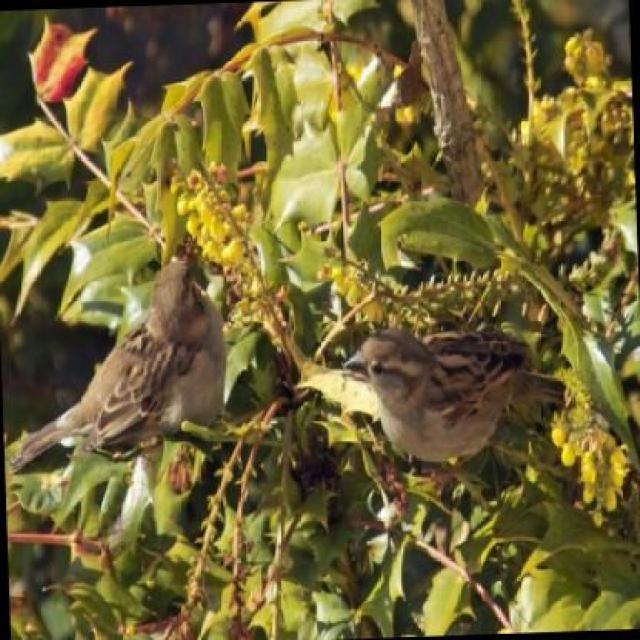Bird: (7, 257, 231, 478), (346, 324, 571, 462)
